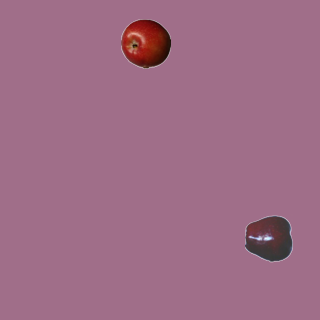Apple Braeburn: (120, 18, 170, 68)
Apple Red Delicious: (244, 213, 294, 263)
